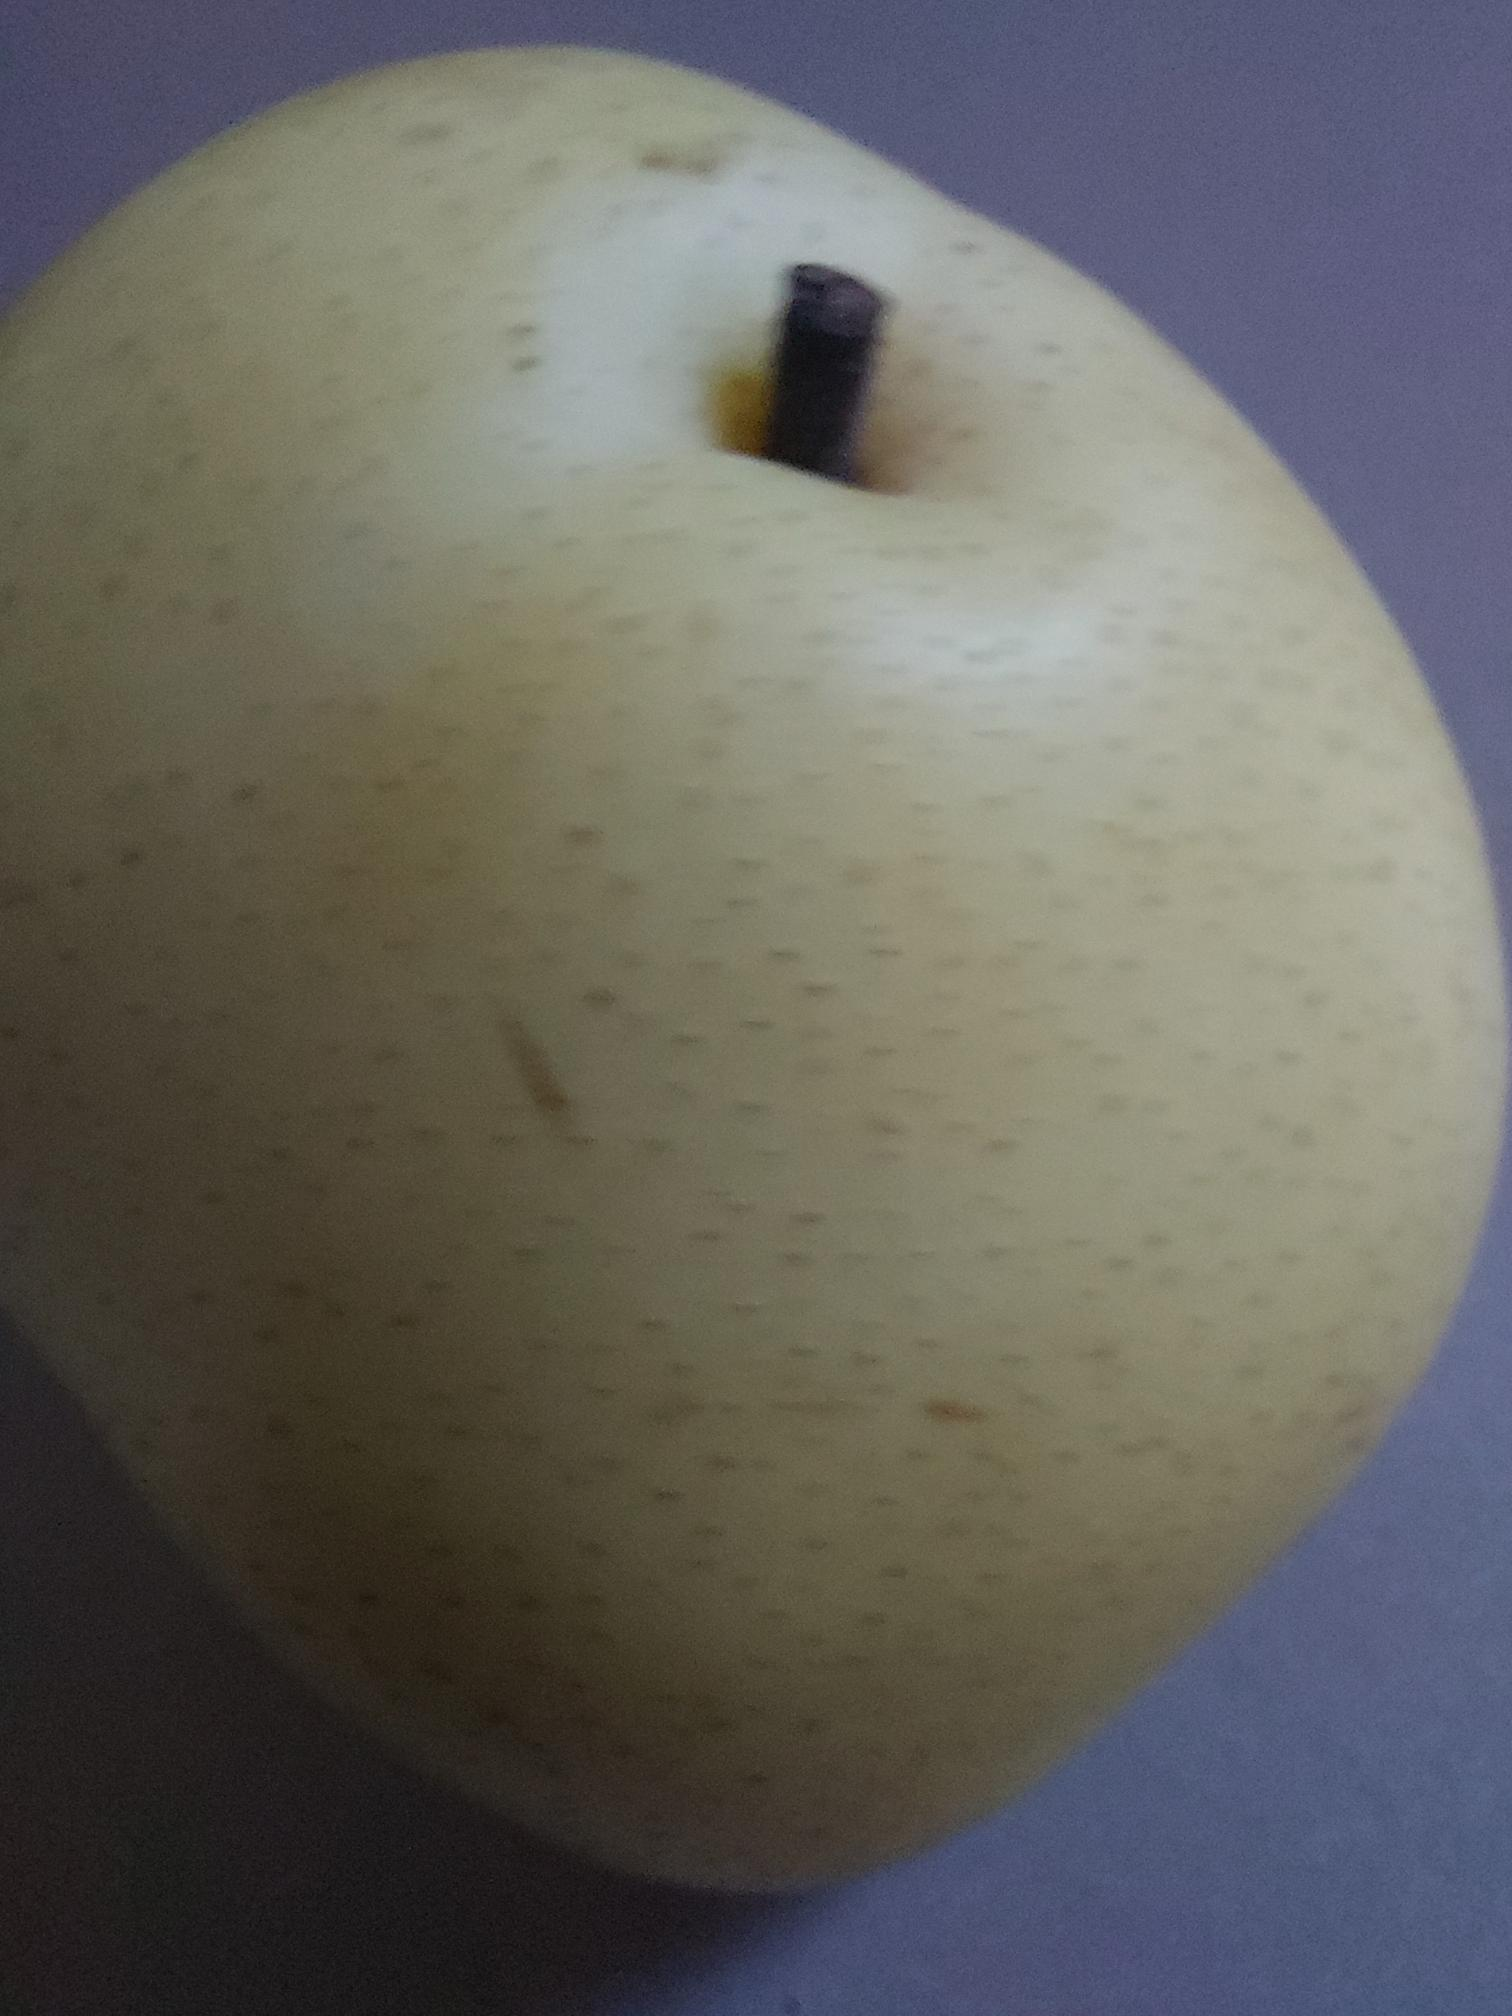Good Pear: (0, 37, 1504, 1899)
